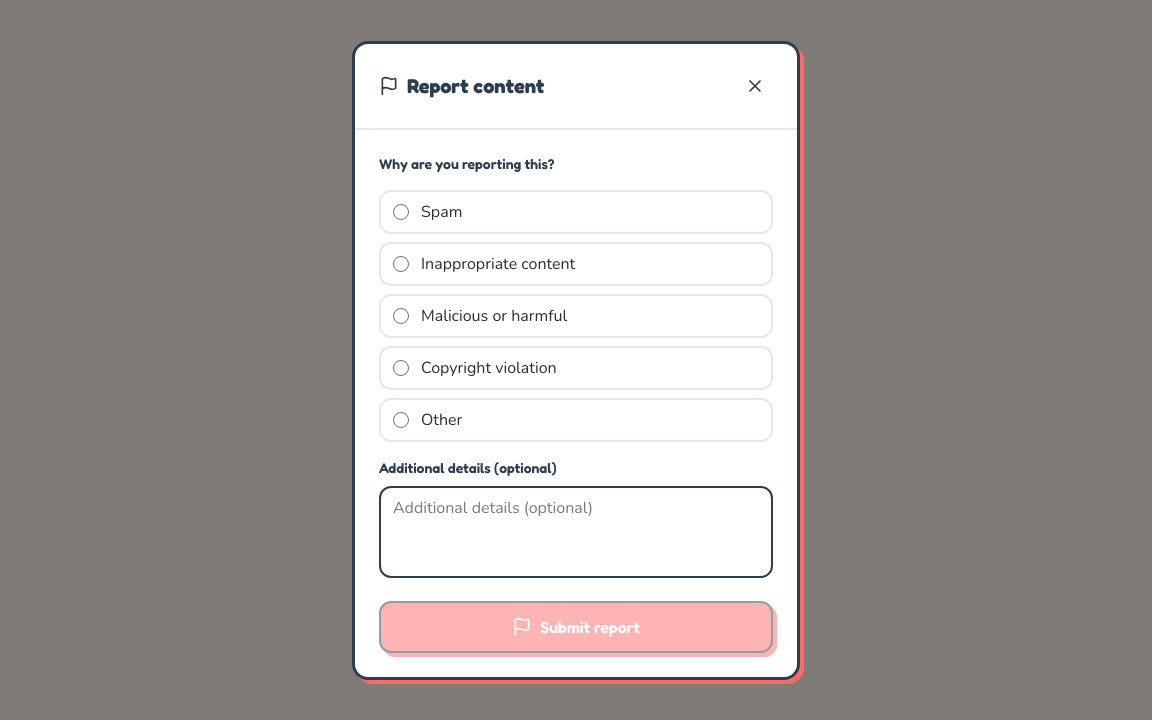
Test: ReportContentModal › shows a friendly "Already reported" state on a duplicate-report response, not an error toast
Click the radio button labelled "Spam" at coordinates (401, 212), box top-left (393, 204), bottom-right (409, 220)
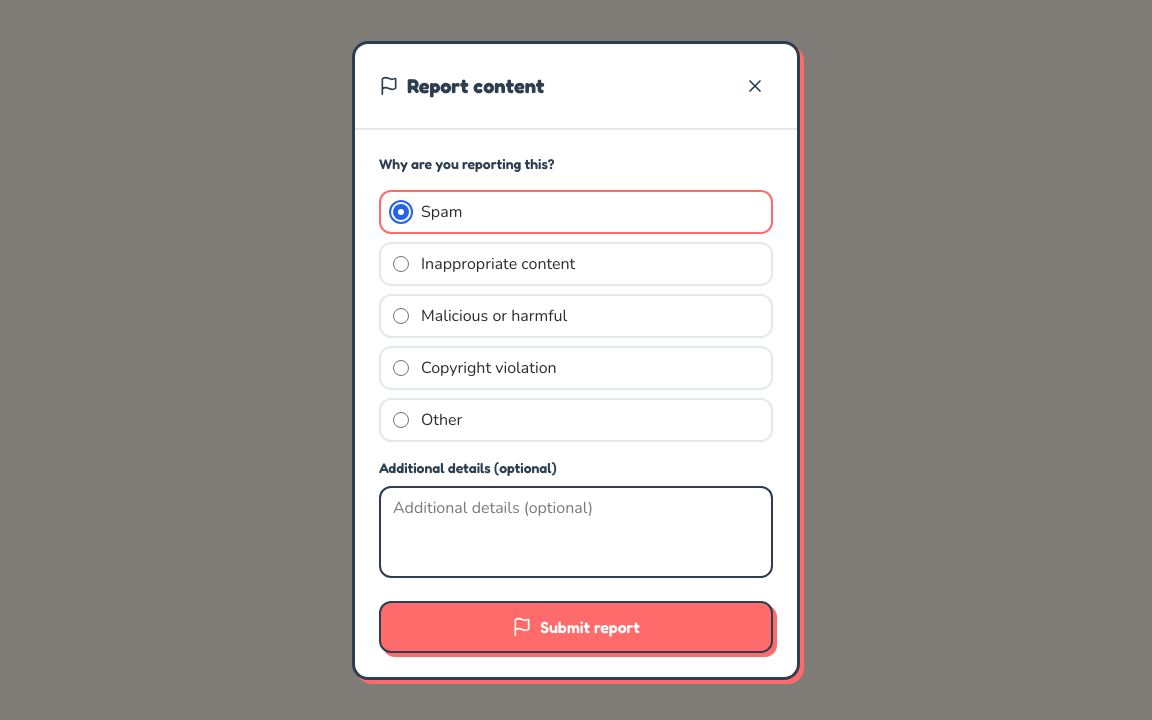
Click the button "Submit report" at coordinates (576, 626), box top-left (379, 600), bottom-right (773, 652)
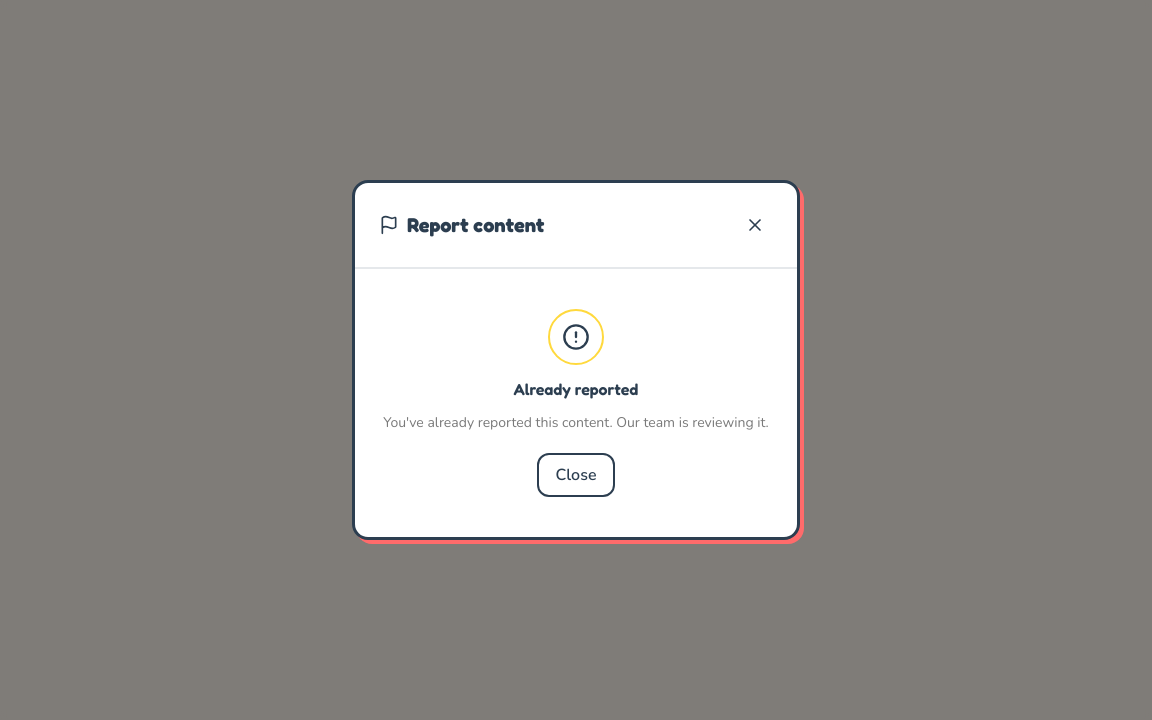
expect the text "Already reported" is shown: met, box top-left (514, 377), bottom-right (638, 401)
